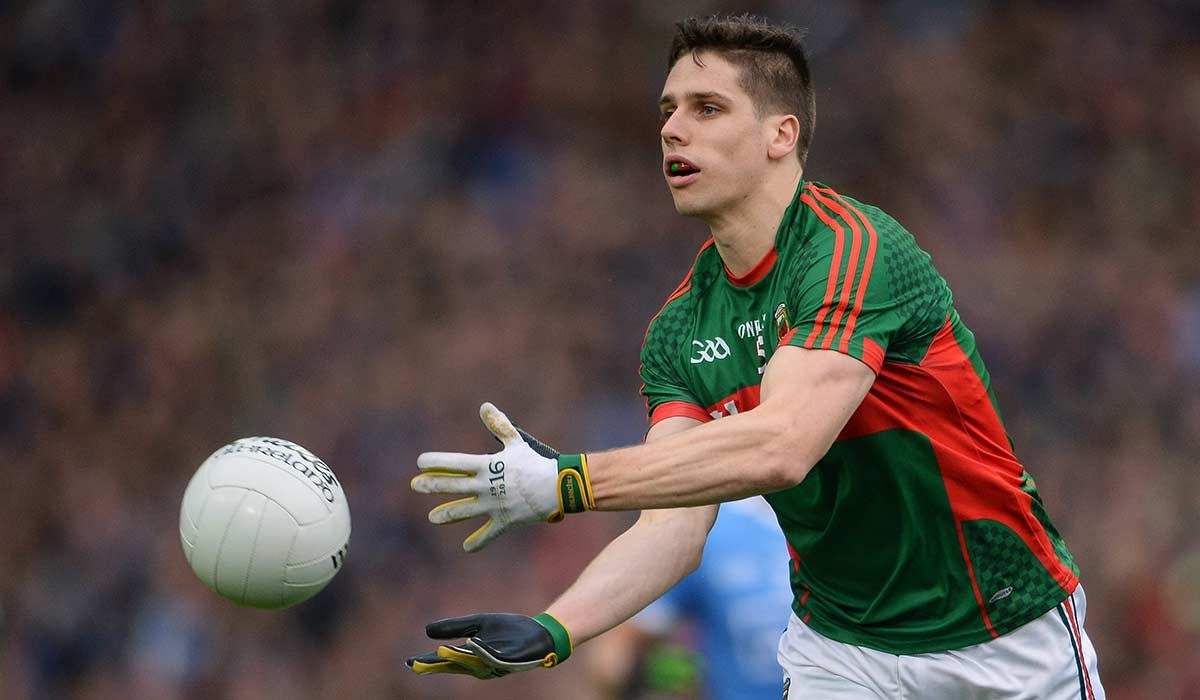ball: (176, 432, 360, 616)
player: (522, 9, 1110, 694)
